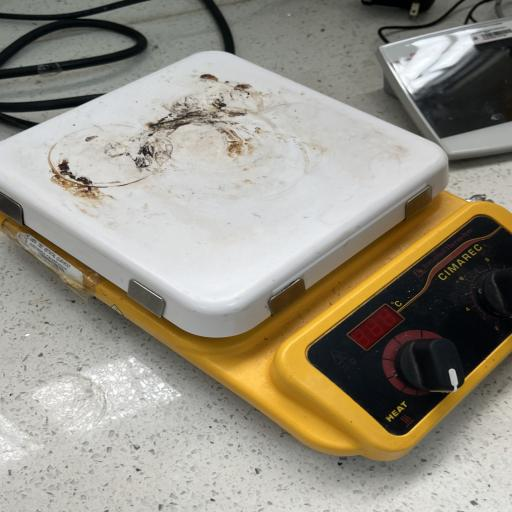Plancha_Agitacion_Cimarec: (0, 43, 512, 468)
